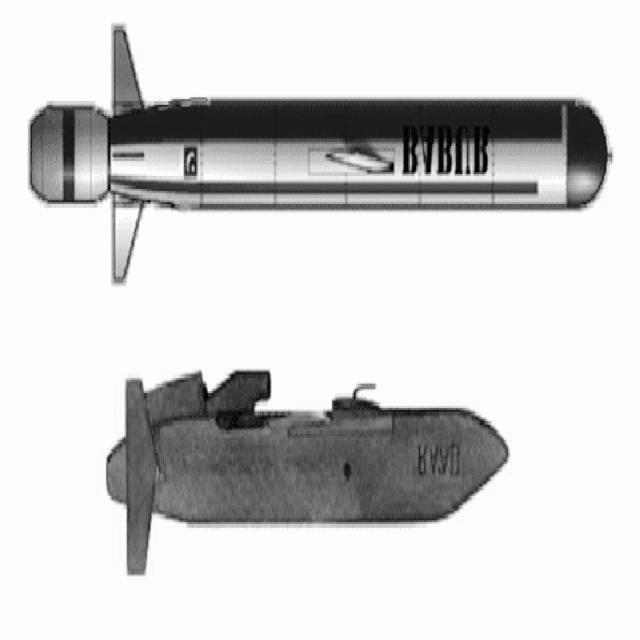missile: (16, 19, 613, 294)
